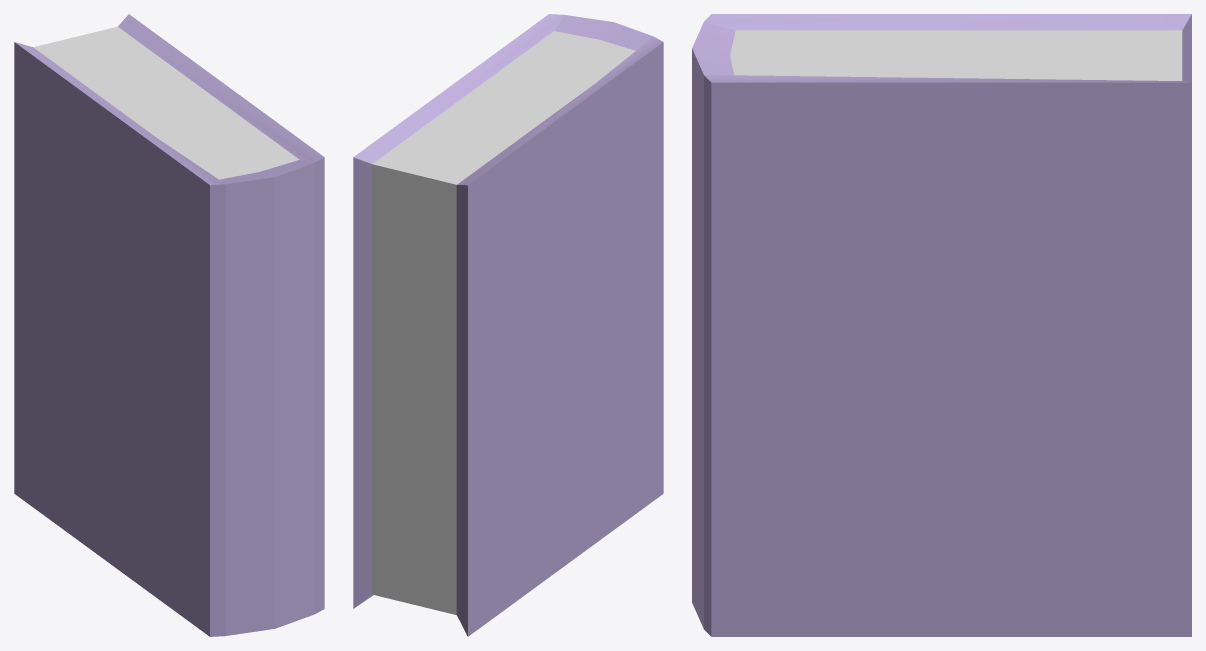
The model's file is Book.1.fbx.
3 renders of one model, left to right at view 1: azimuth 30°, elevation 25°; view 2: azimuth 150°, elevation 25°; view 3: azimuth 270°, elevation 25°, orthographic. The views are drawn at different scales.
Visible parts, largest first — view 1: Book_1; view 2: Book_1; view 3: Book_1.
Part boxes in pixels (box(x1,y1,x2,y2)): Book_1: box(14, 14, 324, 636); Book_1: box(353, 14, 663, 636); Book_1: box(692, 14, 1191, 636).
Size of the model in its own units: 18.25 by 68.73 by 56.16.
